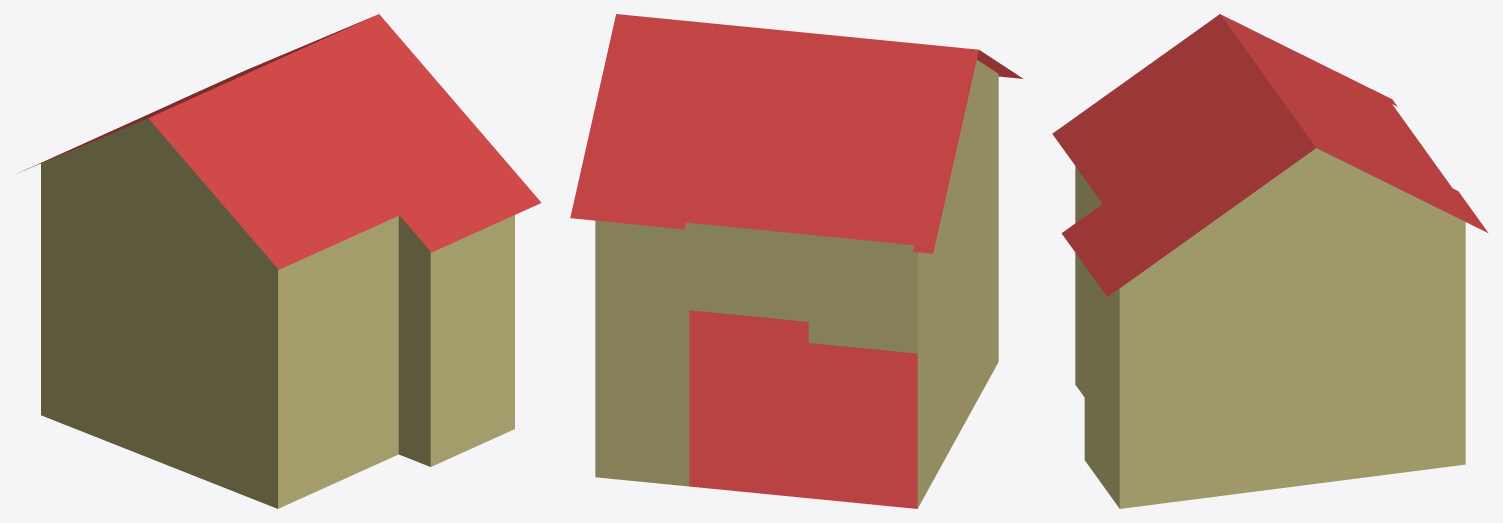
The picture shows the model from 3 angles, left to right: view 1: azimuth 30°, elevation 25°; view 2: azimuth 150°, elevation 25°; view 3: azimuth 270°, elevation 25°; orthographic projection. The views are drawn at different scales.
Bounding box in the file's own units: 11.71 × 11.8 × 10.26.
